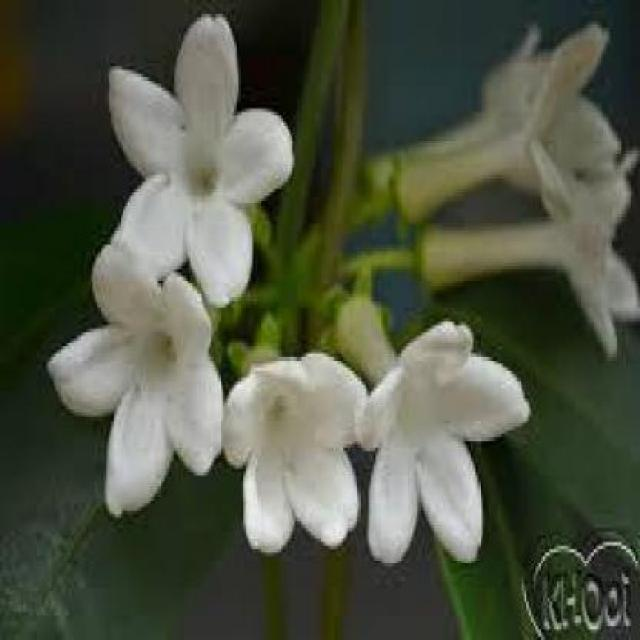flower: (95, 11, 292, 324), (44, 231, 250, 497), (352, 294, 526, 574), (222, 328, 406, 560), (401, 152, 633, 334)
